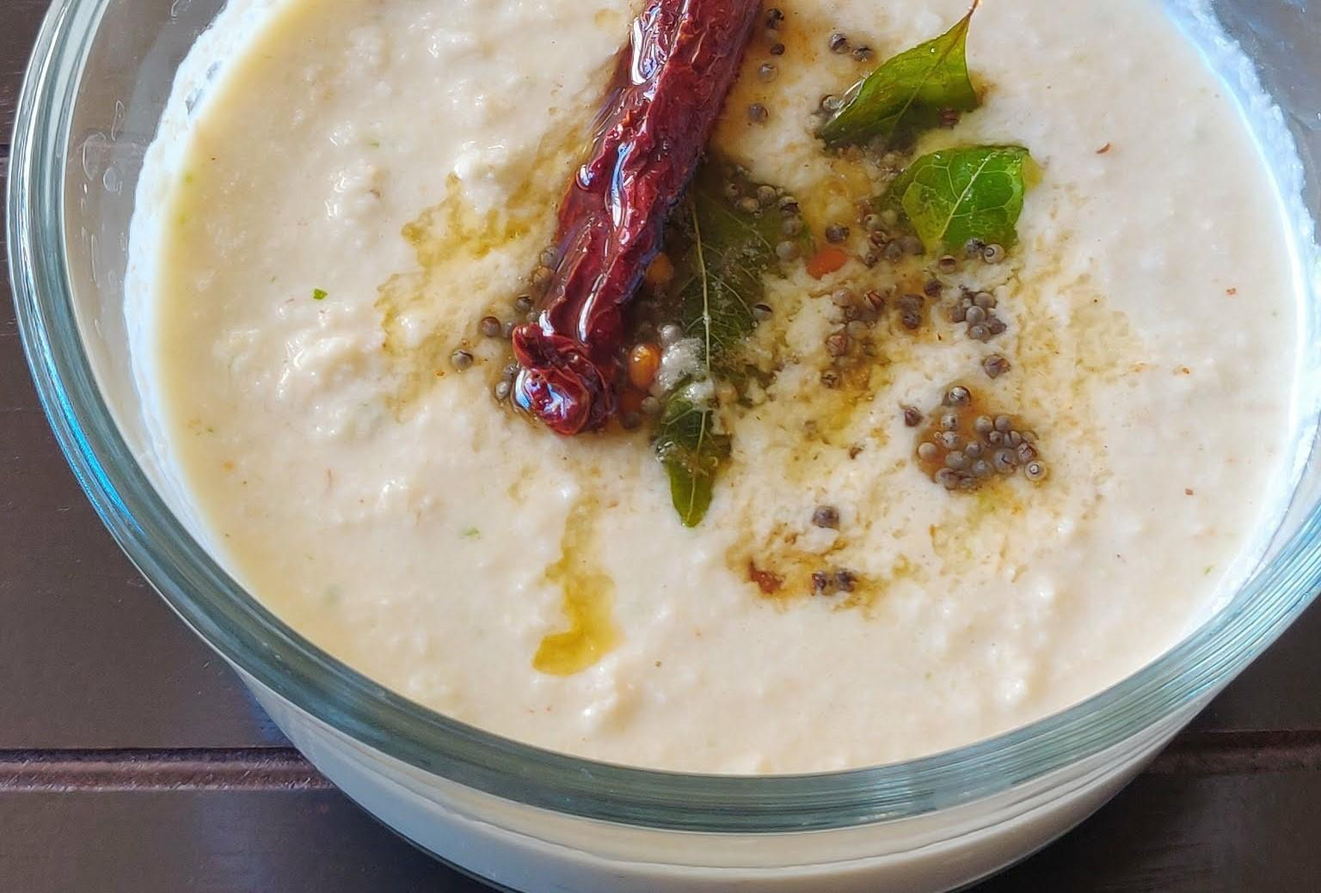CoconutChutney: (145, 0, 1311, 769)
